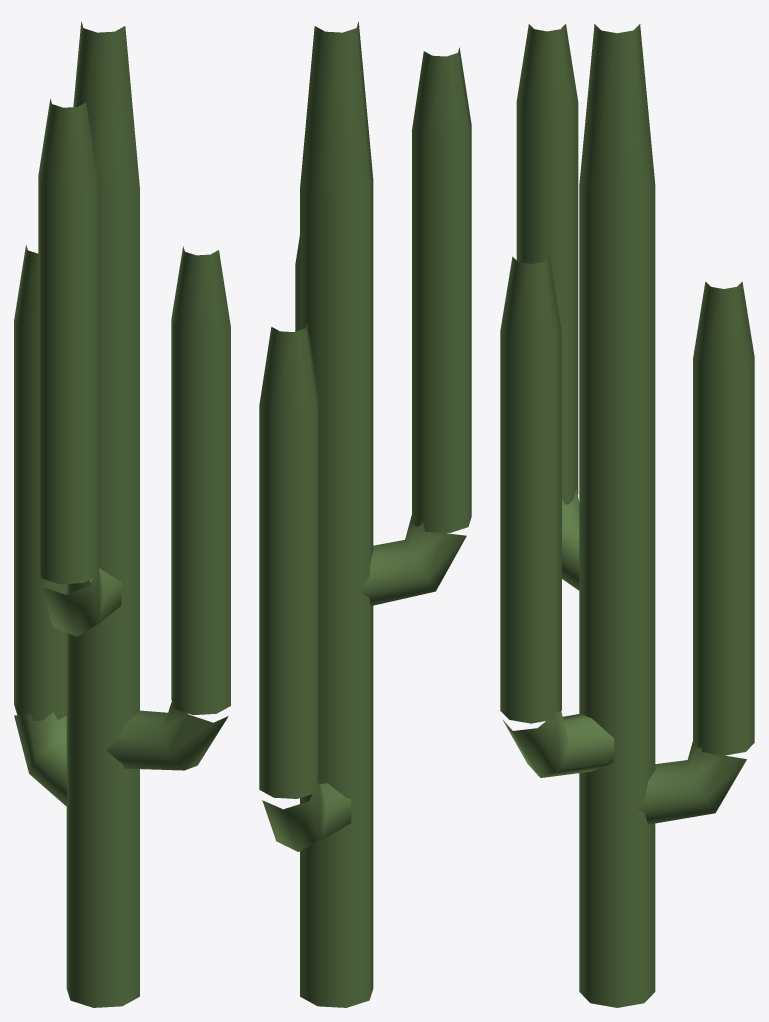
Rendered from cierge.glb.
3 renders of one model, left to right at view 1: azimuth 30°, elevation 25°; view 2: azimuth 150°, elevation 25°; view 3: azimuth 270°, elevation 25°, orthographic.
Parts seen in each view (by area): view 1: cierge; view 2: cierge; view 3: cierge.
Boxes of the visible parts, bbox=[...] form: cierge: bbox=[14, 22, 230, 1007]; cierge: bbox=[259, 22, 471, 1007]; cierge: bbox=[500, 24, 754, 1007].
Bounding box in the file's own units: 0.8656 × 4.5 × 1.07.
